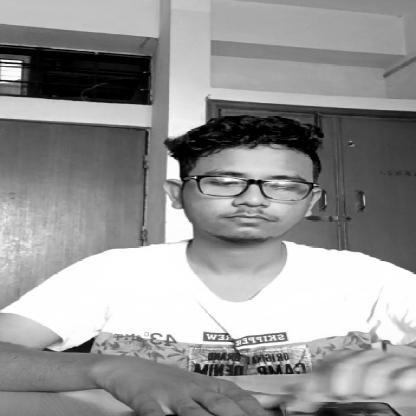Normal: (179, 131, 317, 244)
